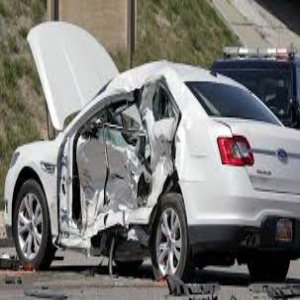door: (65, 138, 159, 222)
